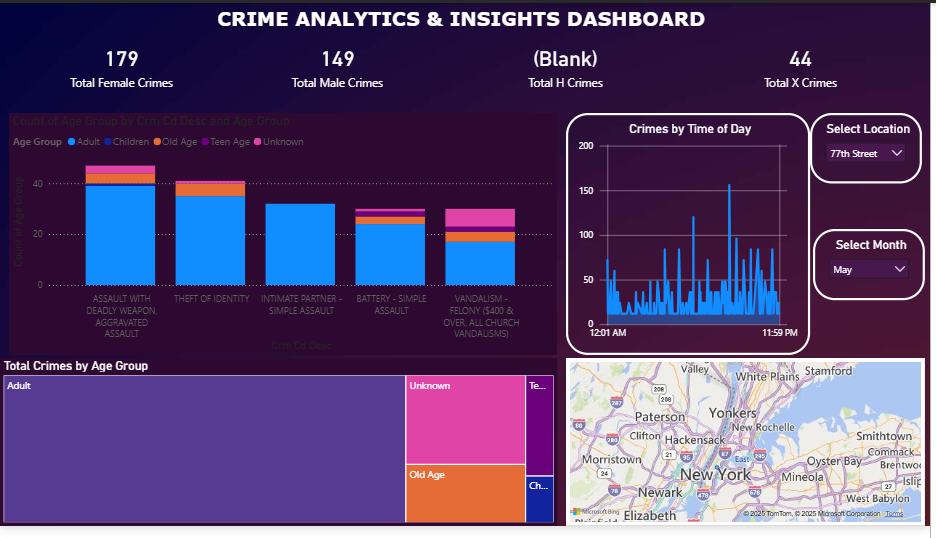

Layout of this report page (visuals, bound fields, positions):
{"tool":"powerbi","page":{"name":"Area","canvas":[1280,720],"ordinal":1},"visuals":[{"type":"textbox","box":[255.7,0,767.1,47.1],"z":0},{"type":"slicer","title":"Select Location","fields":{"Values":["Crime_Data_Cleaned.AREA NAME"]},"box":[1114.3,151.4,154.3,97.1],"z":1000},{"type":"card","fields":{"Values":["Crime_Data_Cleaned.Total Female Crimes"]},"box":[0,46.8,334.5,75.7],"z":2000},{"type":"card","fields":{"Values":["Crime_Data_Cleaned.Total Male Crimes"]},"box":[304.2,46.8,320.7,75.7],"z":3000},{"type":"card","fields":{"Values":["Crime_Data_Cleaned.Total H Crimes"]},"box":[611.1,46.8,334.5,75.7],"z":4000},{"type":"card","fields":{"Values":["Crime_Data_Cleaned.Total X Crimes"]},"box":[934.5,46.8,334.5,75.7],"z":5000},{"type":"map","fields":{"Category":["Crime_Data_Cleaned.AREA NAME"]},"box":[778.6,488.6,494.3,231.4],"z":6000},{"type":"treemap","fields":{"Group":["Crime_Data_Cleaned.Age Group"],"Values":["Crime_Data_Cleaned.Total Crimes"]},"box":[0,488.6,767.1,231.4],"z":7000},{"type":"columnChart","fields":{"Category":["Crime_Data_Cleaned.Crm Cd Desc"],"Series":["Crime_Data_Cleaned.Age Group"],"Y":["CountNonNull(Crime_Data_Cleaned.Age Group)"]},"box":[12.4,151.4,754.2,333.1],"z":8000},{"type":"stackedAreaChart","title":"Crimes by Time of Day","fields":{"Category":["Crime_Data_Cleaned.TIME OCC"],"Y":["Sum(Crime_Data_Cleaned.AREA)"]},"box":[778.6,151.4,335.7,332.9],"z":9000},{"type":"slicer","title":"Select Month","fields":{"Values":["Crime_Data_Cleaned.Month"]},"box":[1119,311.1,154.2,97.7],"z":10000}]}

Visuals, with their boxes in screenshot pixels (x1, y1, x2, y2), scaled from the page's 1280x720 canvas onto the 936x538 screenshot:
textbox: BBox(187, 0, 748, 35)
"Select Location" slicer: BBox(815, 113, 928, 186)
card - Crime_Data_Cleaned.Total Female Crimes: BBox(0, 35, 245, 92)
card - Crime_Data_Cleaned.Total Male Crimes: BBox(222, 35, 457, 92)
card - Crime_Data_Cleaned.Total H Crimes: BBox(447, 35, 691, 92)
card - Crime_Data_Cleaned.Total X Crimes: BBox(683, 35, 928, 92)
map - Crime_Data_Cleaned.AREA NAME: BBox(569, 365, 931, 537)
treemap - Crime_Data_Cleaned.Age Group x Crime_Data_Cleaned.Total Crimes: BBox(0, 365, 561, 537)
columnChart - Crime_Data_Cleaned.Crm Cd Desc x Crime_Data_Cleaned.Age Group: BBox(9, 113, 561, 362)
"Crimes by Time of Day" stackedAreaChart: BBox(569, 113, 815, 362)
"Select Month" slicer: BBox(818, 232, 931, 305)
